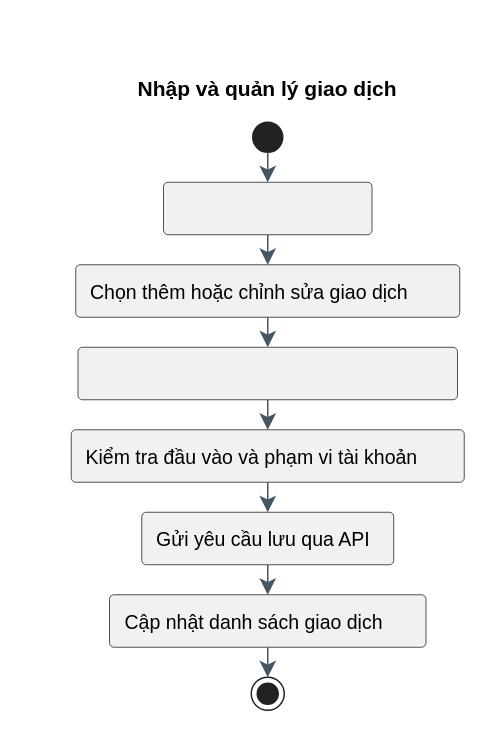
Image size: 491x737. Some labels were removed from this diagram. The shapes that lost their labels are listed below. From the top down, each one's centre as x and y in pixels, then its label:
At pixel 267 207: "Mở trang Thu – chi".
At pixel 267 372: "Nhập số tiền, loại, danh mục và ngày".
